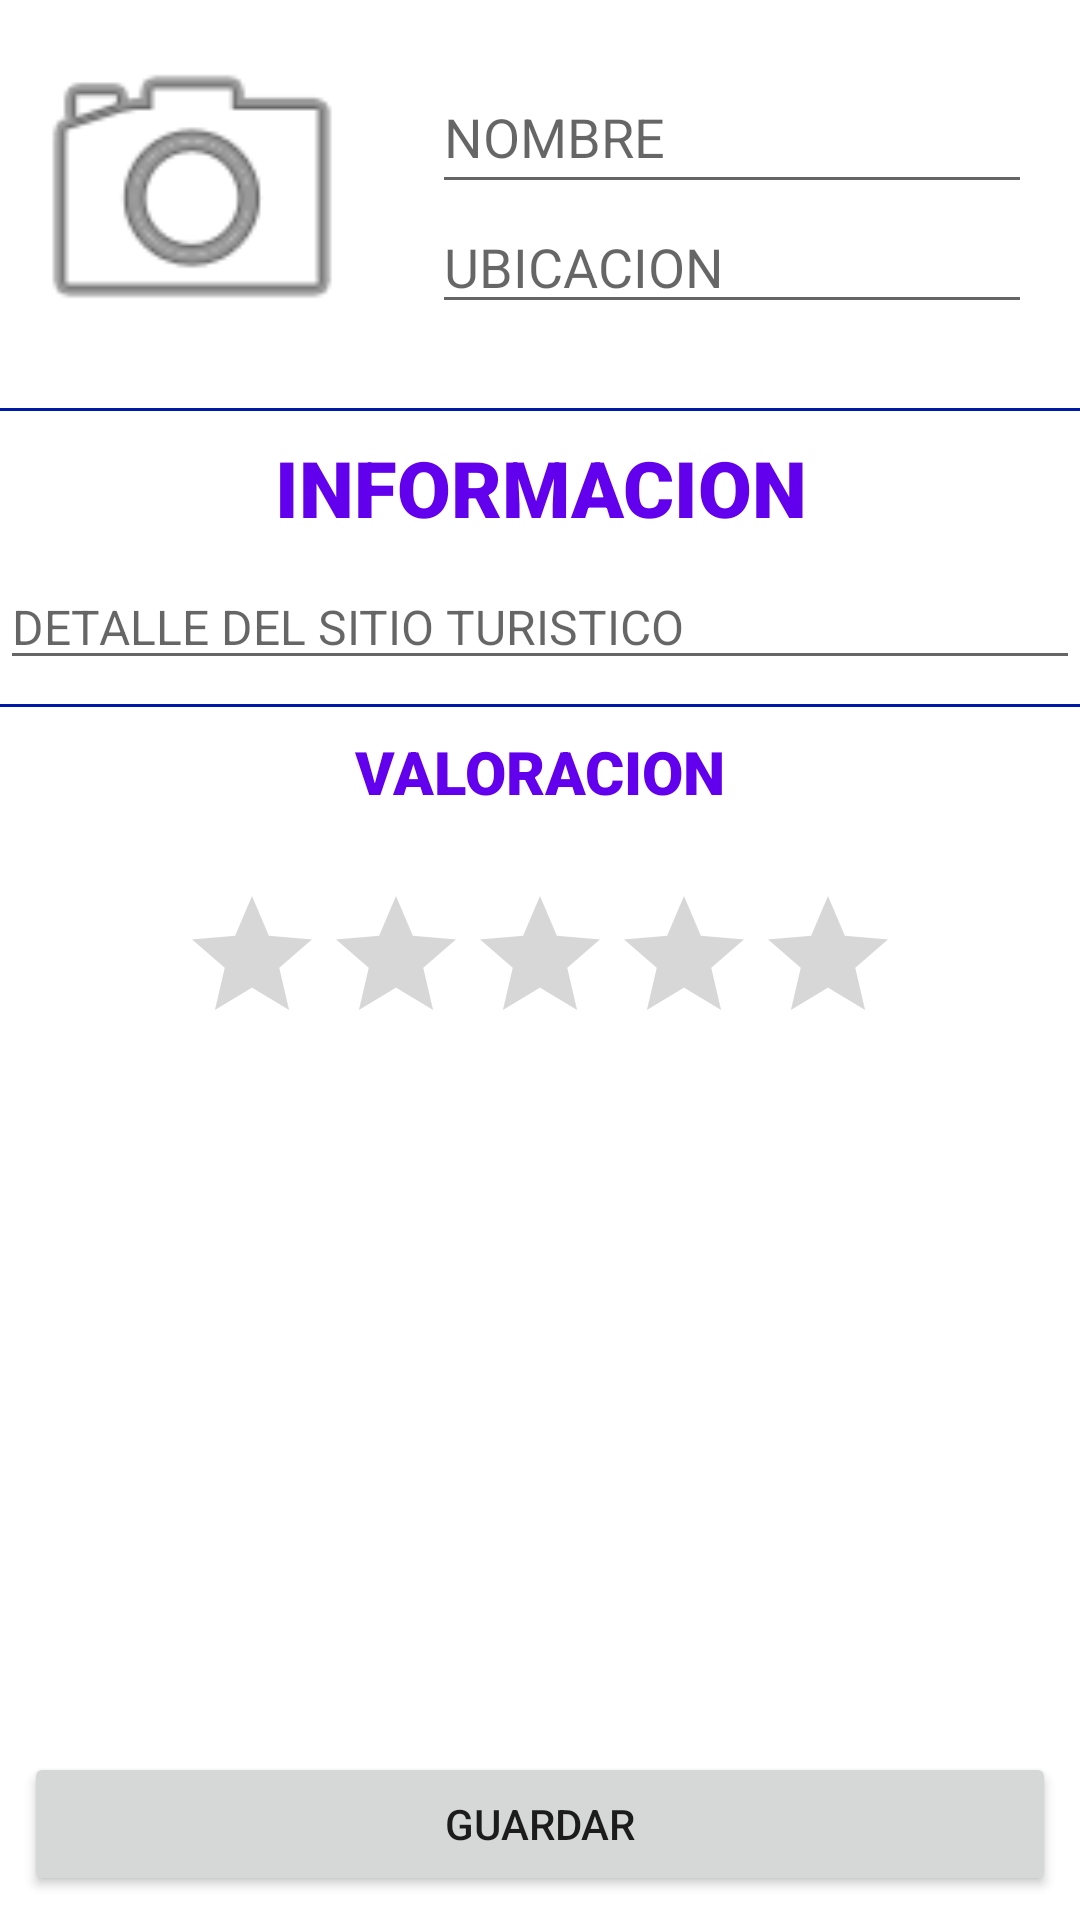

Locate icon controls on the screen. Image size 1080*1920, boxes as (x1, y1, x2, y2).
camera: (53, 75, 331, 297)
